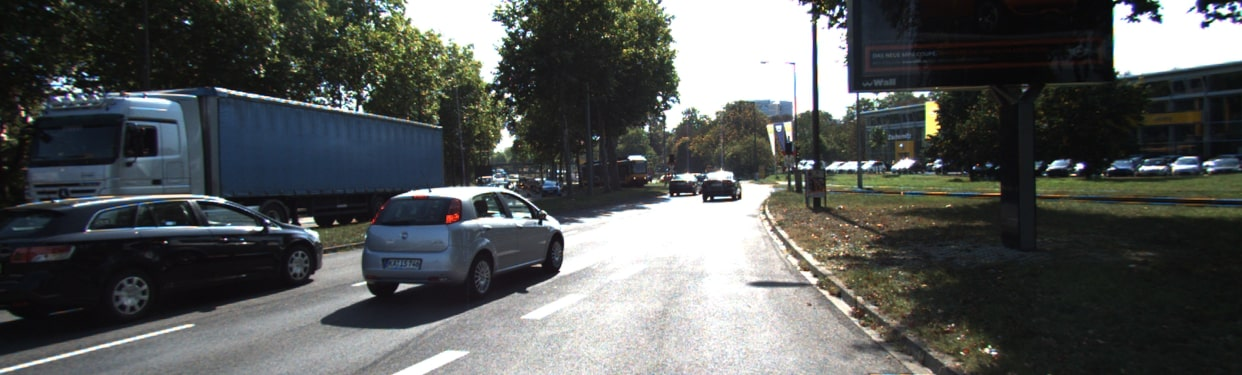Tram: (577, 152, 651, 184)
car: (25, 105, 461, 192), (8, 200, 325, 300), (352, 183, 564, 300), (698, 167, 747, 200), (664, 169, 694, 198)
